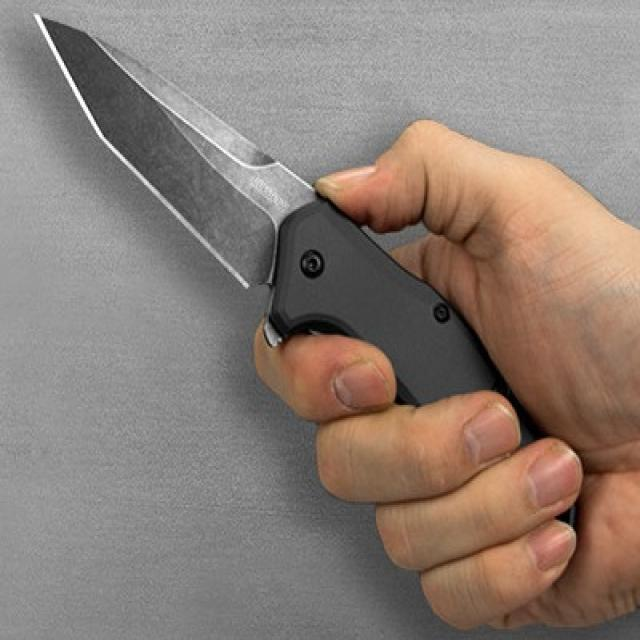knife: (29, 6, 584, 558)
